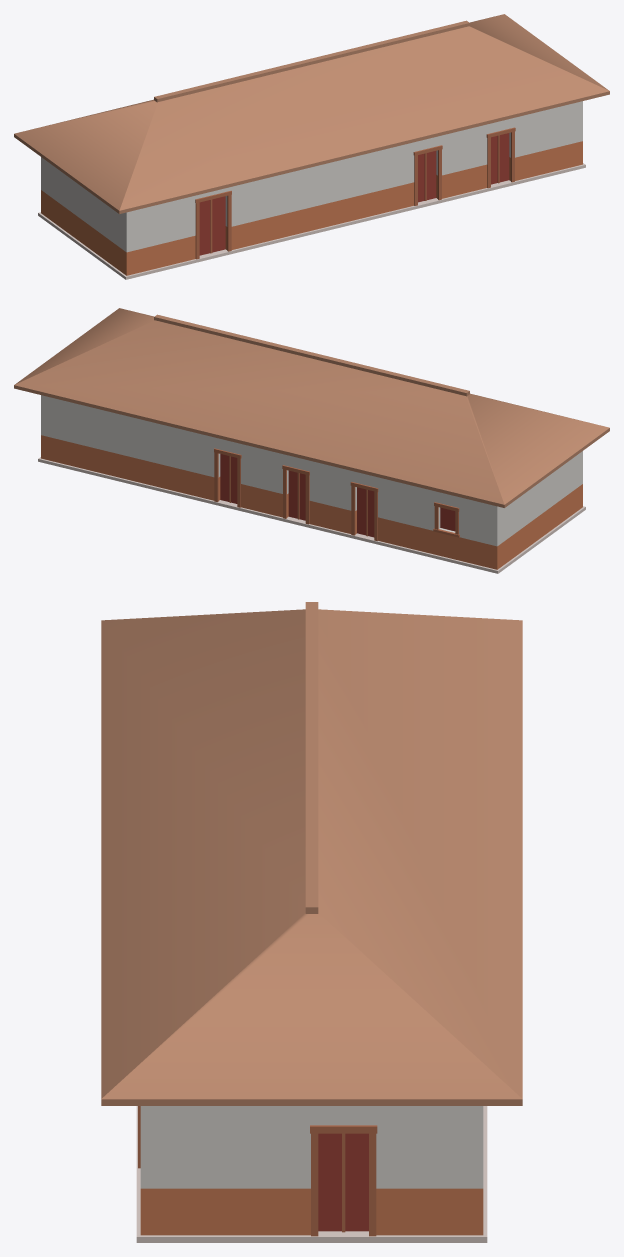
The model's file is casabasica.fbx.
3 views of the same model, one above another, from view 1: azimuth 30°, elevation 25°; view 2: azimuth 150°, elevation 25°; view 3: azimuth 270°, elevation 25° (orthographic). The views are drawn at different scales.
Parts seen in each view (by area): view 1: cubierta, muro_frente, muro_culataO, cimiento, cumbrera, puerta_F1_hoja, puerta_F3_hoja, puerta_F2_hoja; view 2: cubierta, muro_posterior, muro_culataO, cimiento, cumbrera, puerta_P3_hoja, puerta_P2_hoja, puerta_P1_hoja; view 3: cubierta, muro_culataE, puerta_C1_hoja, cumbrera, cimiento, muro_frente, muro_posterior.
Part boxes in pixels (x1,y1,x2,y2): cubierta: (14, 14, 609, 213); muro_frente: (121, 101, 582, 275); muro_culataO: (46, 161, 121, 271); cimiento: (38, 163, 585, 279); cumbrera: (154, 20, 469, 102); puerta_F1_hoja: (199, 196, 225, 255); puerta_F3_hoja: (491, 133, 509, 184); puerta_F2_hoja: (418, 151, 436, 202); cubierta: (14, 308, 609, 507); muro_posterior: (41, 395, 502, 569); muro_culataO: (502, 455, 577, 565); cimiento: (38, 457, 585, 573); cumbrera: (154, 314, 469, 396); puerta_P3_hoja: (357, 487, 374, 537); puerta_P2_hoja: (288, 470, 305, 520); puerta_P1_hoja: (220, 454, 237, 503); cubierta: (101, 609, 522, 1105); muro_culataE: (161, 1106, 462, 1235); puerta_C1_hoja: (318, 1133, 368, 1231); cumbrera: (305, 602, 318, 913); cimiento: (136, 1106, 487, 1242); muro_frente: (140, 1106, 161, 1235); muro_posterior: (462, 1106, 483, 1235).
Size of the model in its own units: 2150 by 552 by 800.
